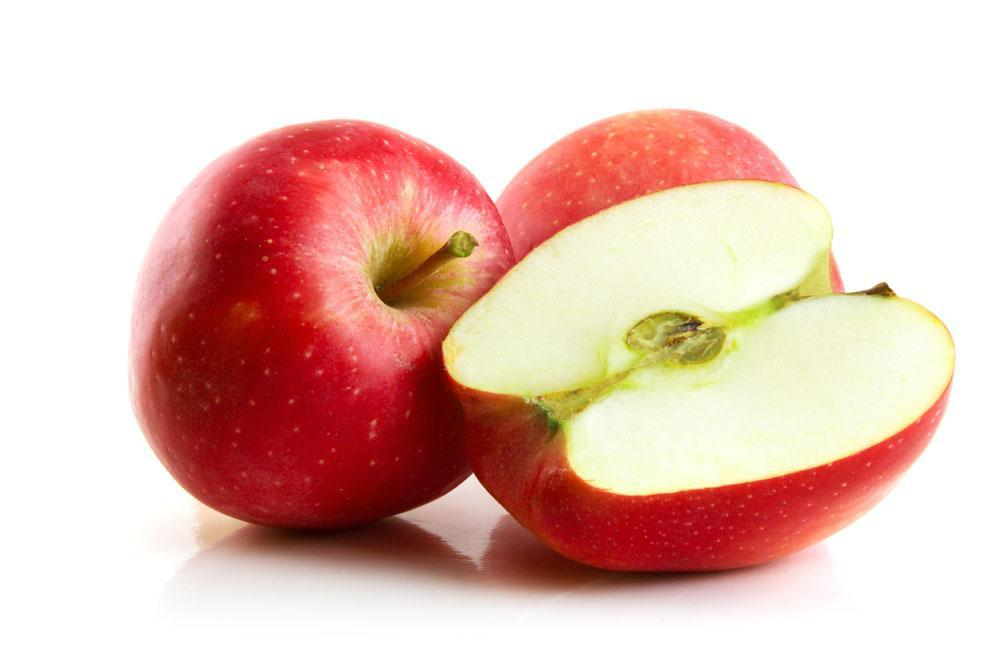apple: (126, 115, 574, 541)
